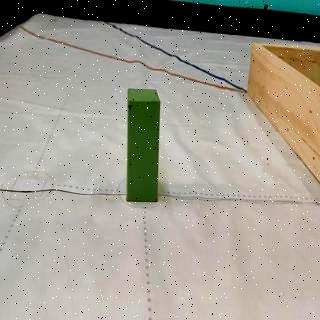greenbox: (125, 86, 162, 203)
